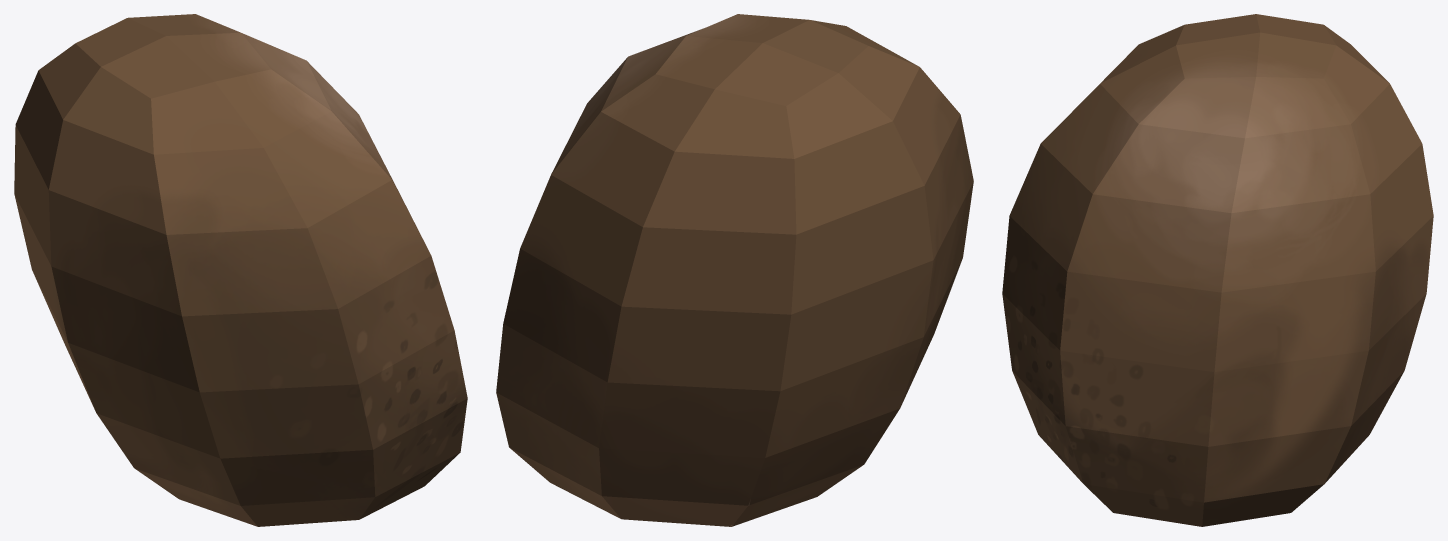
The model's file is Papa.fbx.
3 renders of one model, left to right at view 1: azimuth 30°, elevation 25°; view 2: azimuth 150°, elevation 25°; view 3: azimuth 270°, elevation 25°, orthographic. The views are drawn at different scales.
Visible parts, largest first — view 1: Potato_1; view 2: Potato_1; view 3: Potato_1.
Boxes of the visible parts, <box> form: Potato_1: <box>14,14,467,526</box>; Potato_1: <box>496,14,973,526</box>; Potato_1: <box>1002,14,1433,526</box>.
Bounding box in the file's own units: 439 × 515 × 472.
1 material, 1 textured.
